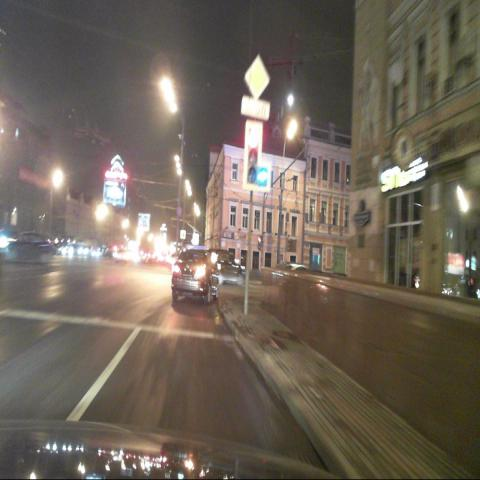2_1: (243, 54, 271, 98)
